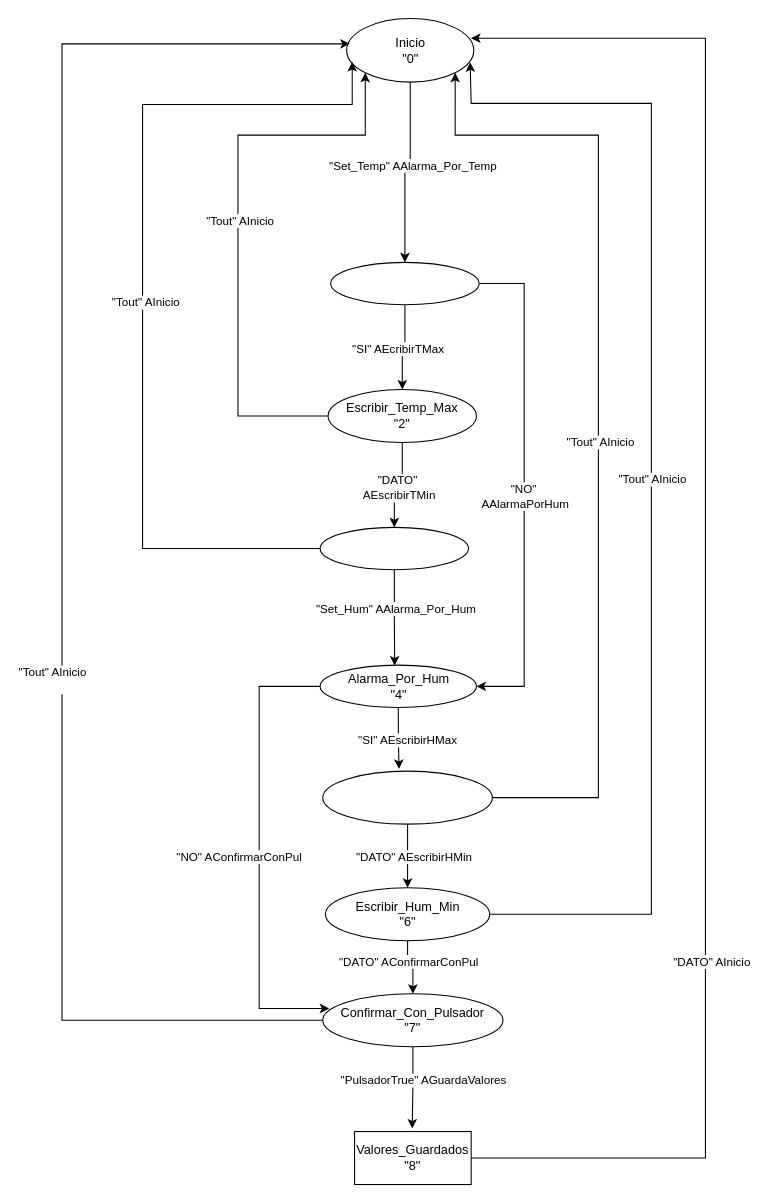
Image size: 768x1203. Some labels were removed from this diagram. Each missing label, with the centre of its shape:
Alarma_Por_Temp "1": (404,283)
Escribir_Hum_Max "5": (407,797)
Escribir_Temp_Min "3": (394,548)
